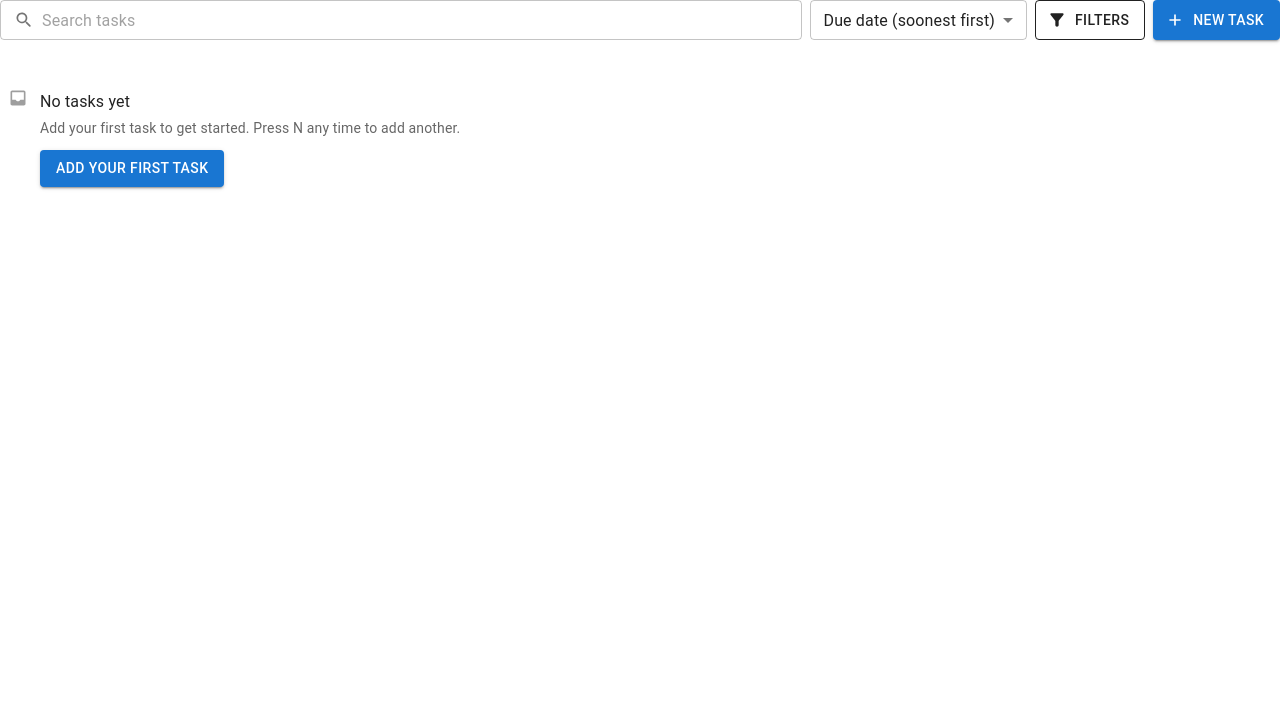
Test: TaskDashboard › creates a task through the dialog and persists it
This screenshot has width=1280, height=720.
Click the button "New task" at (1217, 20), box [1153, 0, 1279, 40]
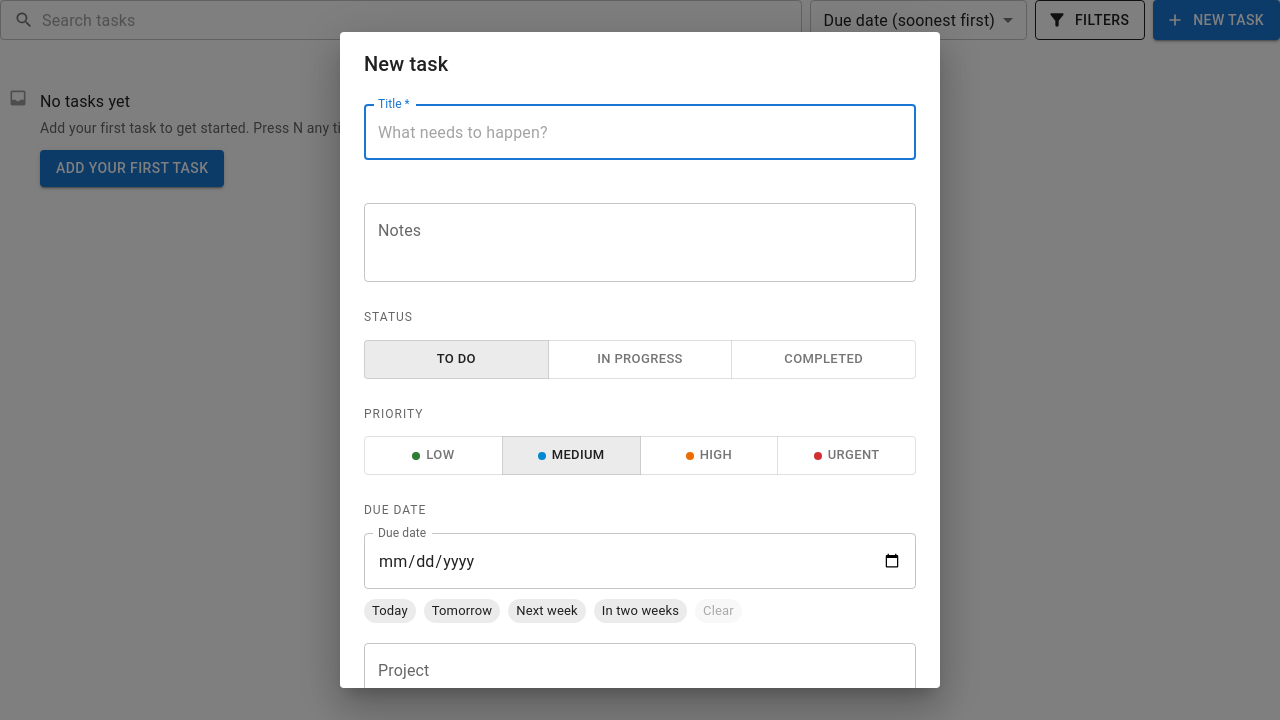
Type "Draft the roadmap" into the field labelled "Title *" at (640, 132), box [364, 104, 916, 160]
(page scrolled)
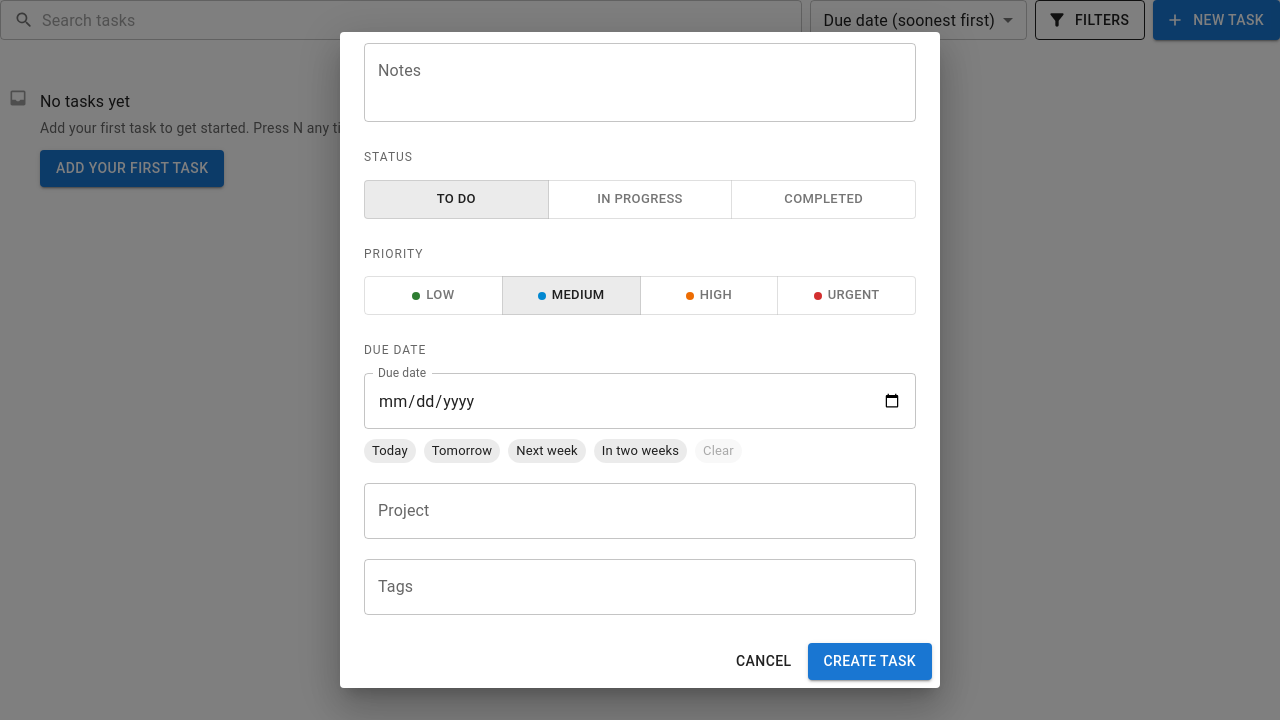
Click the button "Create task" at (870, 661), box [808, 643, 932, 680]
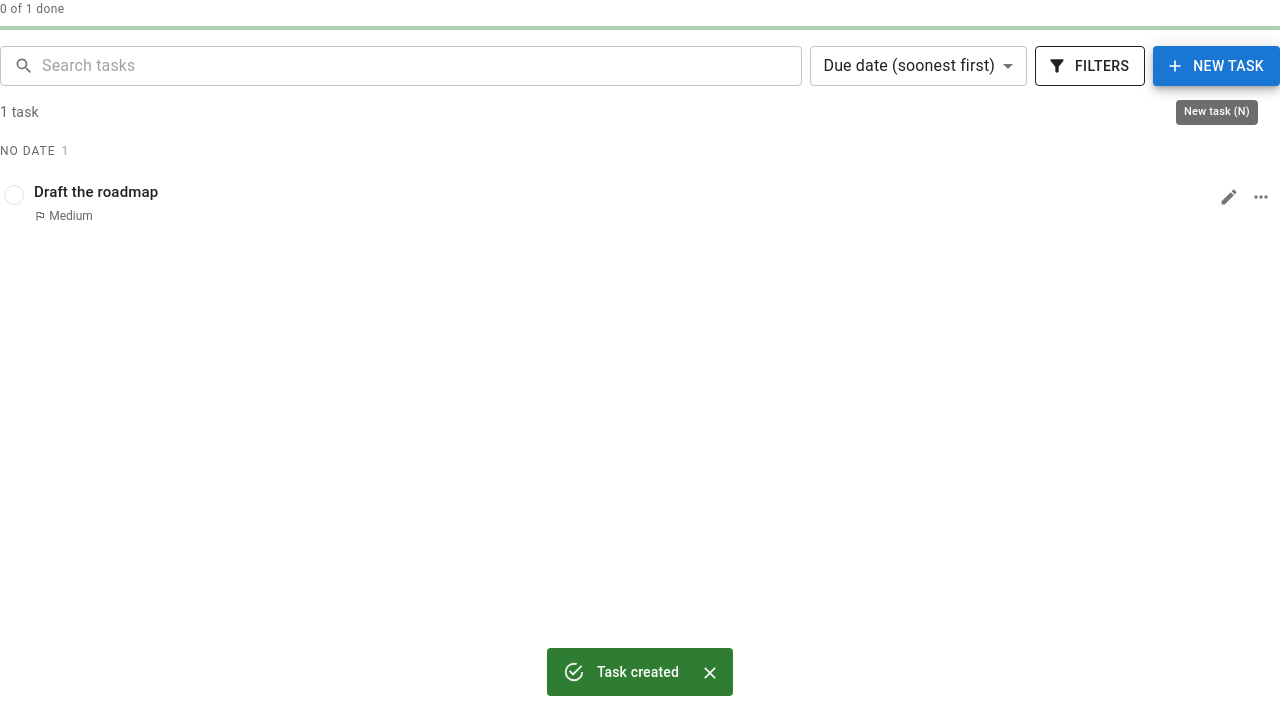
Result: the text "Draft the roadmap" is shown at [34, 183, 158, 201]
